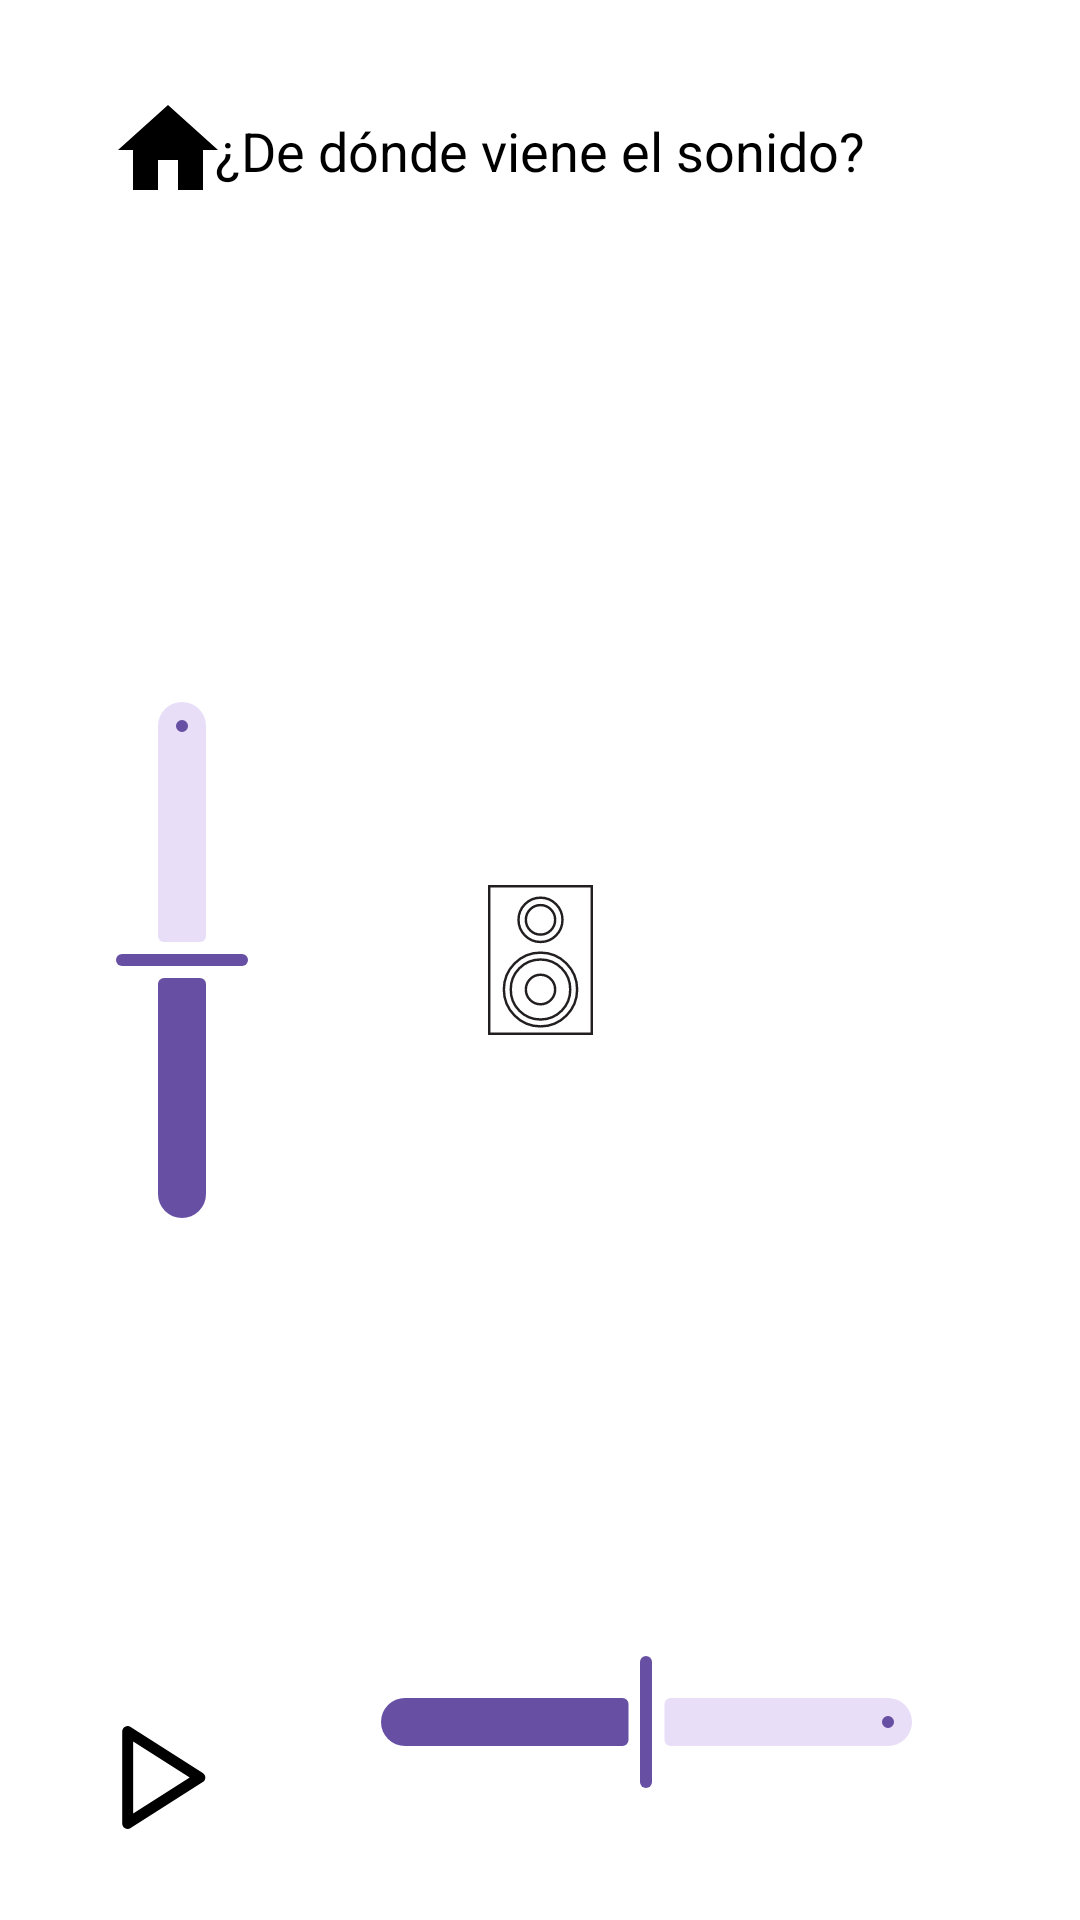

Named icons in this screenshot (1080*1920) and their centers, (x=x, y=y):
Posición de la bocina: (x=540, y=960)
Reproducir o pausar: (x=164, y=1777)
Volver al inicio: (x=178, y=147)
